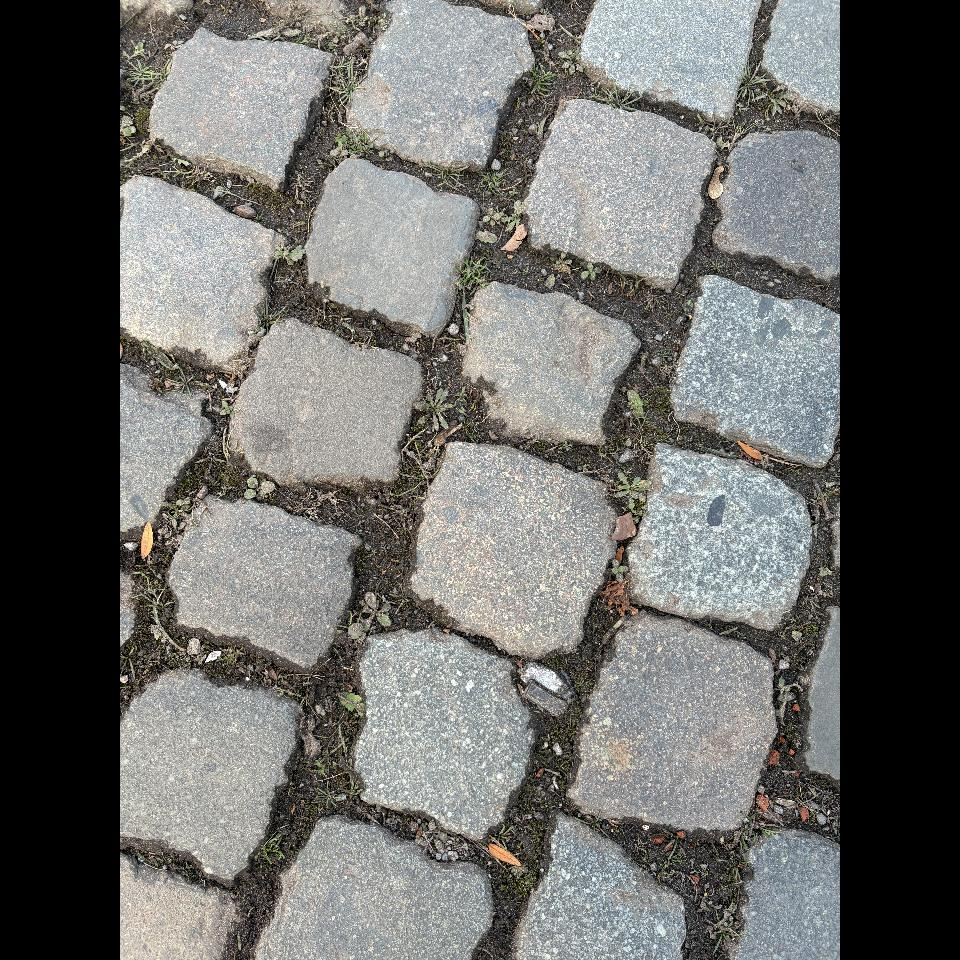weed: (348, 592, 391, 639), (413, 387, 453, 431), (613, 470, 652, 511), (737, 60, 771, 107), (594, 80, 642, 111), (756, 83, 801, 116), (455, 256, 488, 290), (428, 164, 466, 191), (335, 61, 356, 109), (336, 132, 374, 156), (478, 170, 510, 195), (531, 65, 557, 95), (501, 200, 525, 231), (243, 476, 275, 499), (558, 46, 583, 74), (275, 246, 305, 263), (628, 391, 644, 418), (581, 262, 601, 280), (483, 207, 501, 227), (711, 260, 726, 273)
